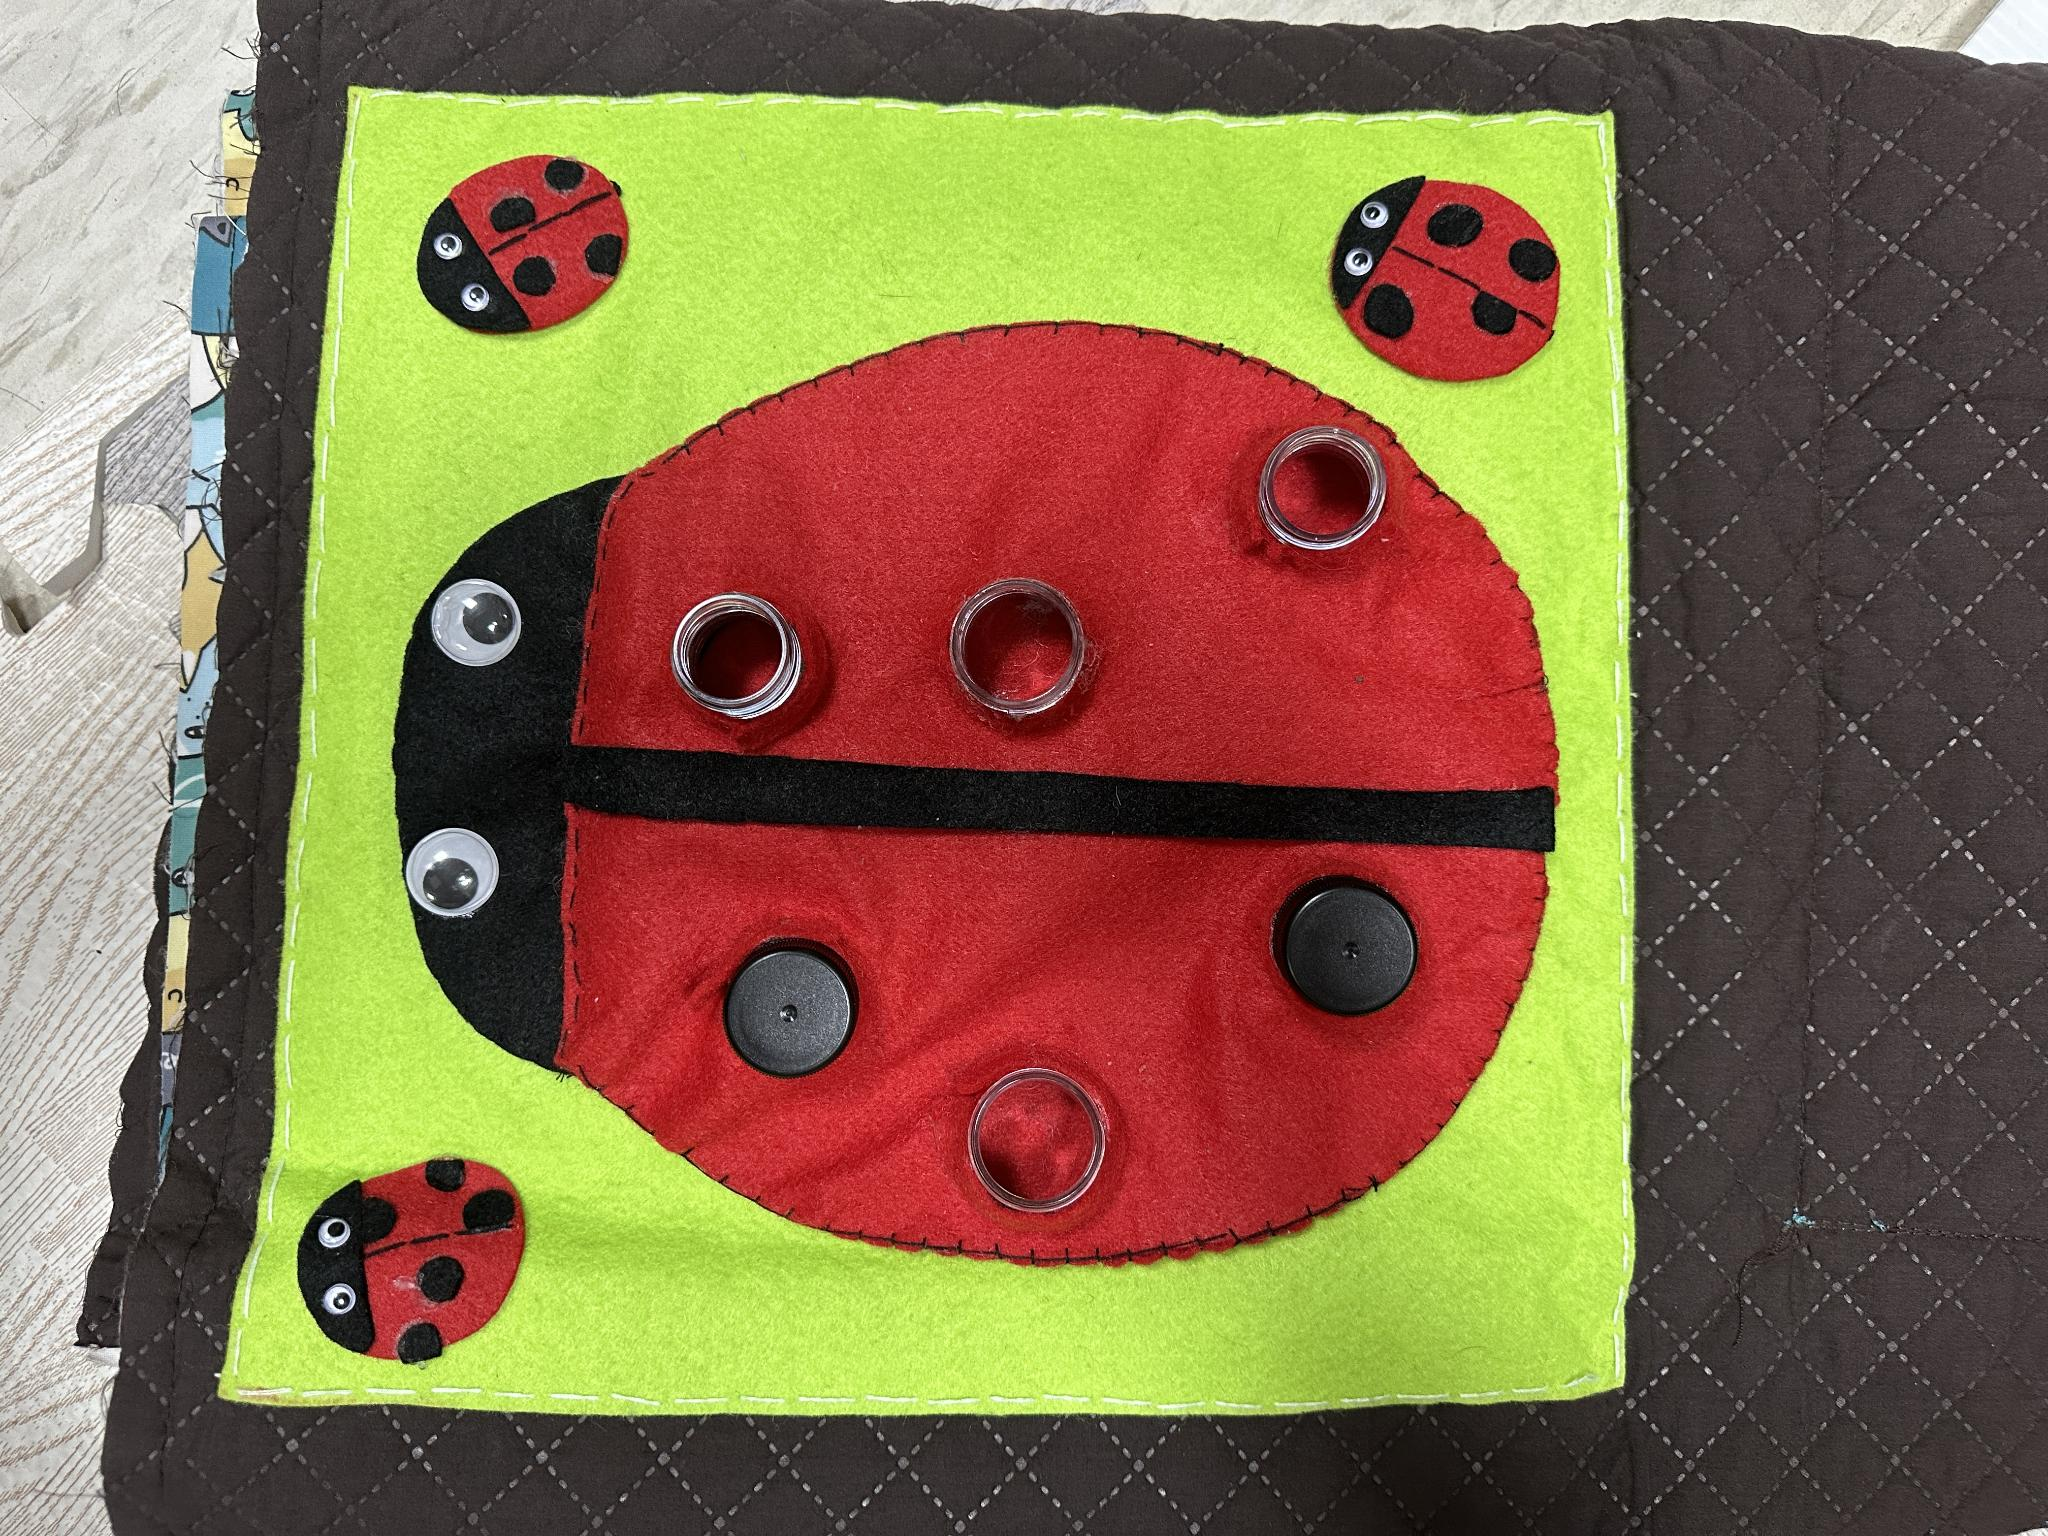cap_ok: (1255, 834, 1448, 1058), (706, 910, 885, 1086)
